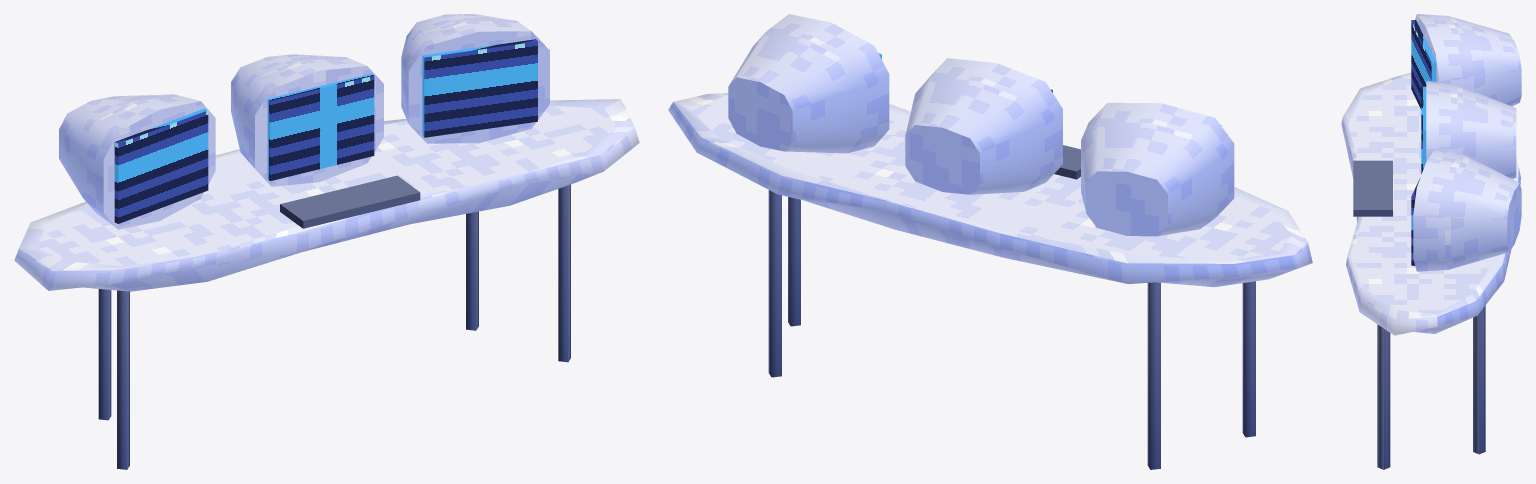
File: furn.console__desk_triple_crt.glb
3 renders of one model, left to right at view 1: azimuth 30°, elevation 25°; view 2: azimuth 150°, elevation 25°; view 3: azimuth 270°, elevation 25°, orthographic. The views are drawn at different scales.
Parts seen in each view (by area): view 1: kit_console_body, kit_console_screens, kit_console_controls; view 2: kit_console_body; view 3: kit_console_body, kit_console_controls, kit_console_screens.
Part boxes in pixels (x1,y1,x2,y2): kit_console_body: (14,14,639,469); kit_console_screens: (114,39,537,223); kit_console_controls: (280,175,420,228); kit_console_body: (668,14,1312,469); kit_console_body: (1341,14,1521,469); kit_console_controls: (1353,160,1392,216); kit_console_screens: (1411,19,1436,265).
Bounding box in the file's own units: 2.29 × 1.16 × 0.6806.
Materials: 4 (2 with a texture image).
